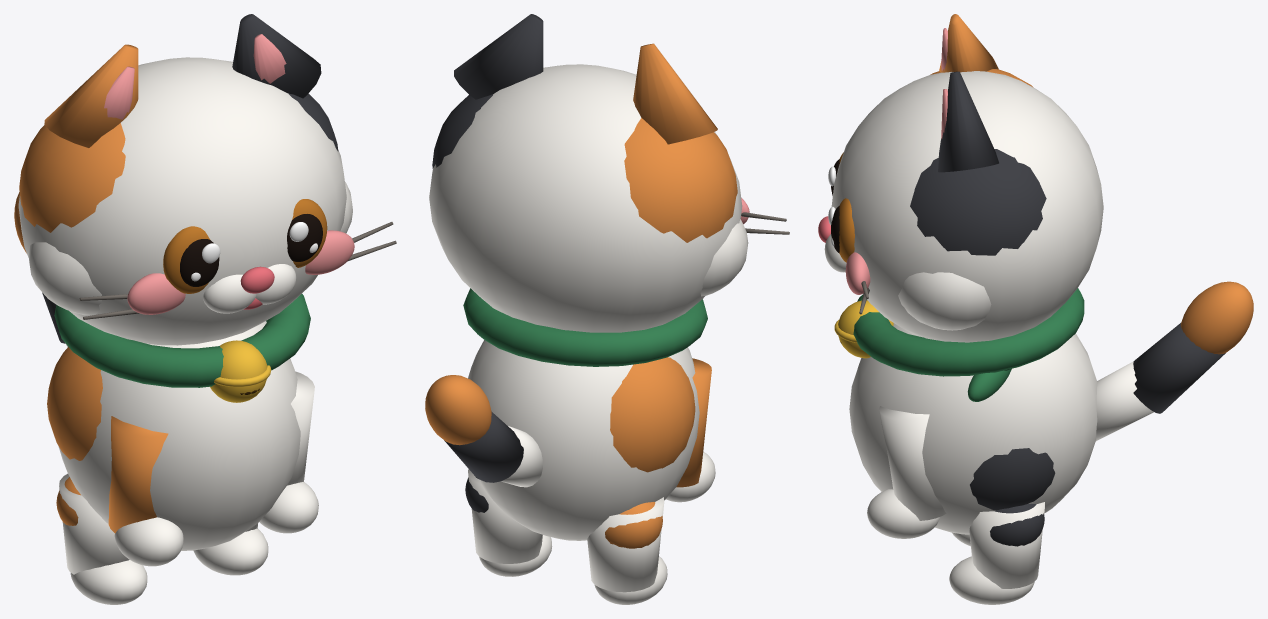
Rendered from mike_calico_companion.glb.
3 views of the same model, side by side, from view 1: azimuth 30°, elevation 25°; view 2: azimuth 150°, elevation 25°; view 3: azimuth 270°, elevation 25° (orthographic). The views are drawn at different scales.
Visible parts, largest first — view 1: HeadMain, MikeTorso, GreenBandana, HeadPatchOrange, BodySpotOrange, RightFrontPawPivot_Arm, RightEarPivot_Outer, LeftEarPivot_Outer, FluffyCheek_-1, RightBackPawPivot_Leg, RightFrontPawPivot_Paw, RightBackPawPivot_Foot (+17 smaller); view 2: HeadMain, MikeTorso, HeadPatchOrange, GreenBandana, BodySpotOrange, RightEarPivot_Outer, LeftEarPivot_Outer, RightBackPawPivot_Leg, TailTip, LeftBackPawPivot_Leg, TailMid, FluffyCheek_-1 (+7 smaller); view 3: HeadMain, MikeTorso, HeadPatchBlack, GreenBandana, TailMid, LeftFrontPawPivot_Arm, FluffyCheek_1, LeftBackPawPivot_Leg, BodySpotBlack, TailTip, LeftEarPivot_Outer, TailBase (+8 smaller).
Part boxes in pixels (bbox=[...]): HeadMain: bbox=[18, 57, 346, 345]; MikeTorso: bbox=[58, 321, 300, 550]; GreenBandana: bbox=[54, 294, 310, 387]; HeadPatchOrange: bbox=[19, 123, 125, 232]; BodySpotOrange: bbox=[47, 347, 102, 460]; RightFrontPawPivot_Arm: bbox=[108, 416, 168, 533]; RightEarPivot_Outer: bbox=[44, 44, 138, 147]; LeftEarPivot_Outer: bbox=[232, 14, 321, 98]; FluffyCheek_-1: bbox=[28, 242, 101, 315]; RightBackPawPivot_Leg: bbox=[59, 473, 129, 574]; RightFrontPawPivot_Paw: bbox=[114, 517, 183, 566]; RightBackPawPivot_Foot: bbox=[70, 560, 147, 604]; HeadMain: bbox=[429, 64, 742, 332]; MikeTorso: bbox=[468, 340, 699, 540]; HeadPatchOrange: bbox=[624, 118, 737, 242]; GreenBandana: bbox=[463, 288, 707, 366]; BodySpotOrange: bbox=[610, 357, 695, 472]; RightEarPivot_Outer: bbox=[633, 43, 717, 144]; LeftEarPivot_Outer: bbox=[454, 14, 543, 99]; RightBackPawPivot_Leg: bbox=[587, 497, 664, 592]; TailTip: bbox=[425, 375, 491, 445]; LeftBackPawPivot_Leg: bbox=[468, 469, 542, 563]; TailMid: bbox=[444, 411, 523, 482]; FluffyCheek_-1: bbox=[700, 219, 748, 296]; HeadMain: bbox=[831, 71, 1103, 342]; MikeTorso: bbox=[849, 323, 1097, 534]; HeadPatchBlack: bbox=[910, 149, 1046, 255]; GreenBandana: bbox=[853, 288, 1084, 376]; TailMid: bbox=[1133, 323, 1225, 413]; LeftFrontPawPivot_Arm: bbox=[879, 406, 946, 520]; FluffyCheek_1: bbox=[898, 272, 991, 330]; LeftBackPawPivot_Leg: bbox=[969, 502, 1044, 588]; BodySpotBlack: bbox=[970, 448, 1055, 510]; TailTip: bbox=[1180, 281, 1253, 354]; LeftEarPivot_Outer: bbox=[938, 71, 998, 172]; TailBase: bbox=[1095, 361, 1153, 441].
Size of the model in its own units: 0.4392 by 0.763 by 0.5684.
